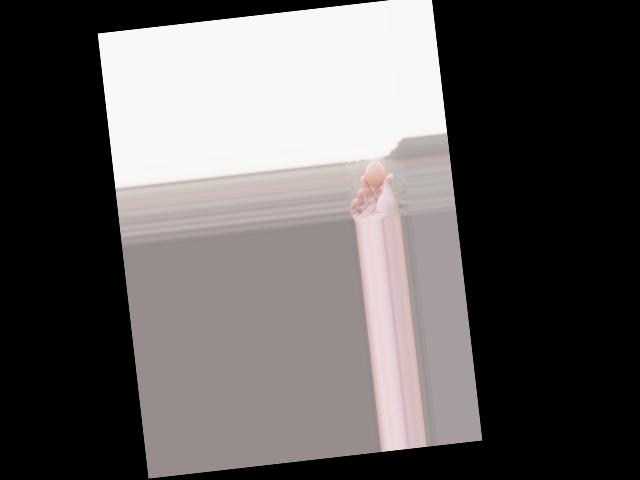egg: (363, 160, 386, 187)
